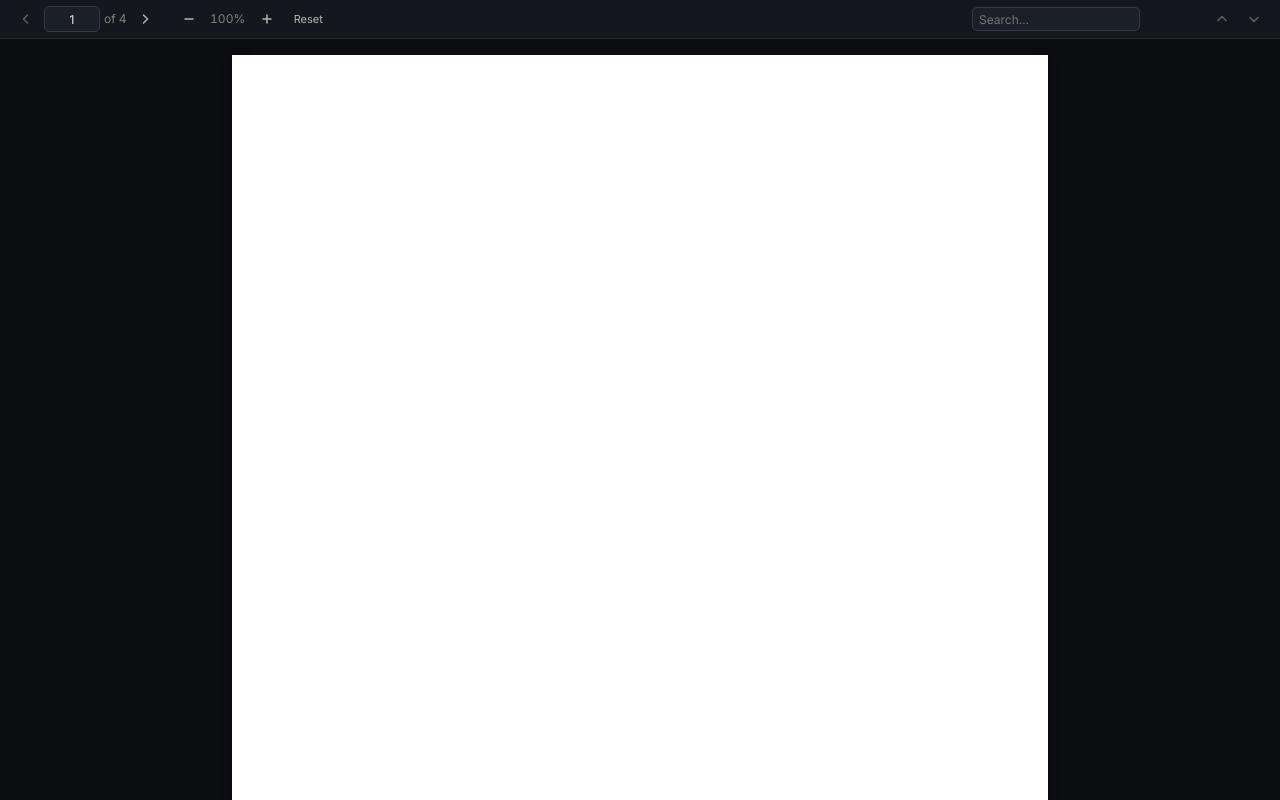
Test case: PDV-FR-SAIG: page navigation › PDV-FR-SAIG: text that is not a number leaves the page as it is, and leaving the field restores the page number
Click the button named "Next page". click: (145, 19)
box: [131, 7, 159, 31]
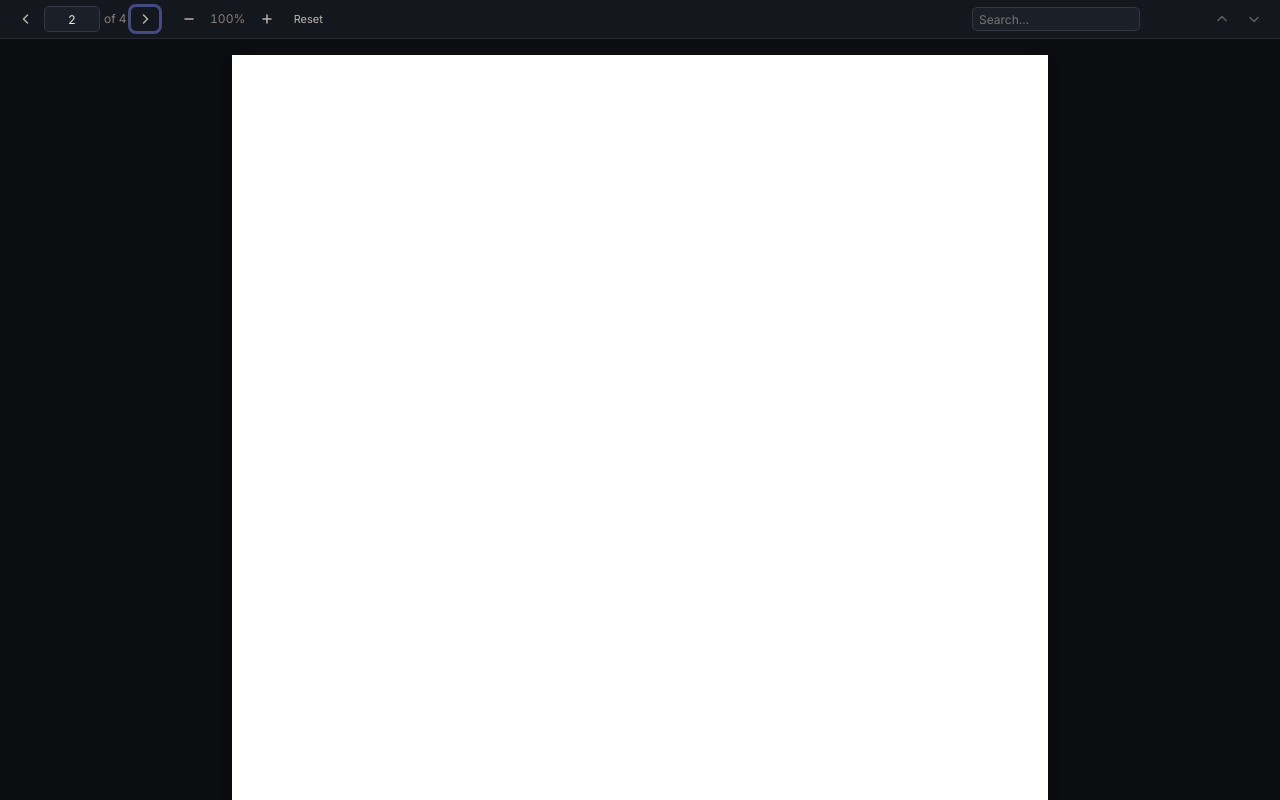
Replace the text in the field named "Page number" with "abc". click: (72, 19)
box: [44, 6, 100, 32]
Then press Enter
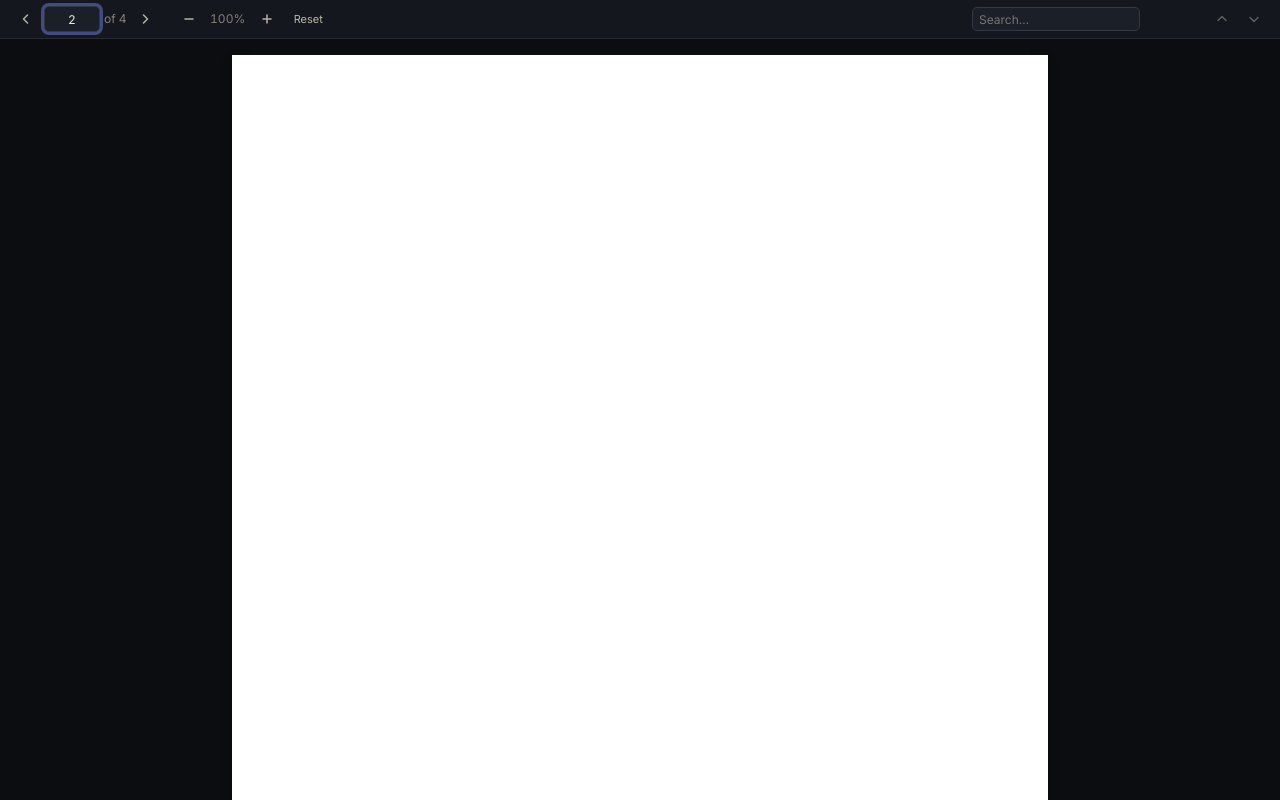
Check: the field named "Page number" holds "2"
Replace the text in the field named "Page number" with "4". click: (72, 19)
box: [44, 6, 100, 32]
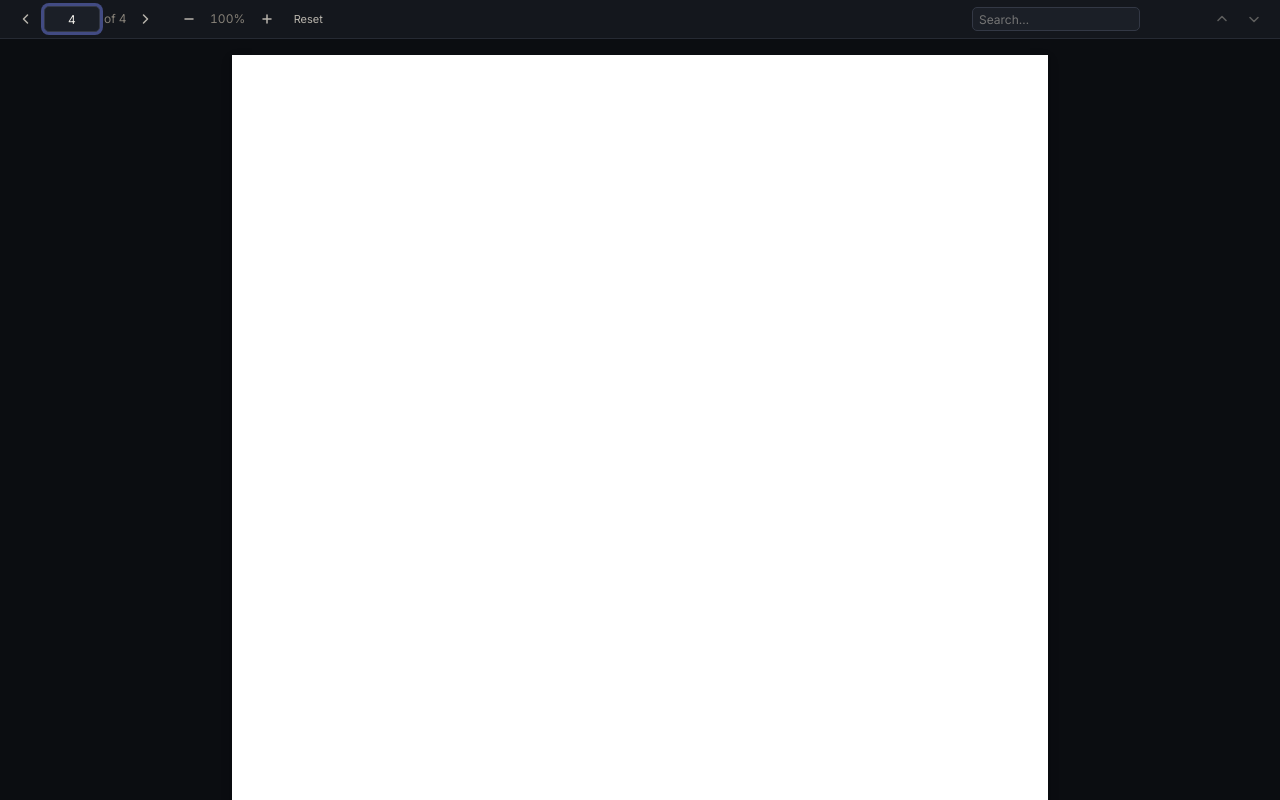
Press Tab
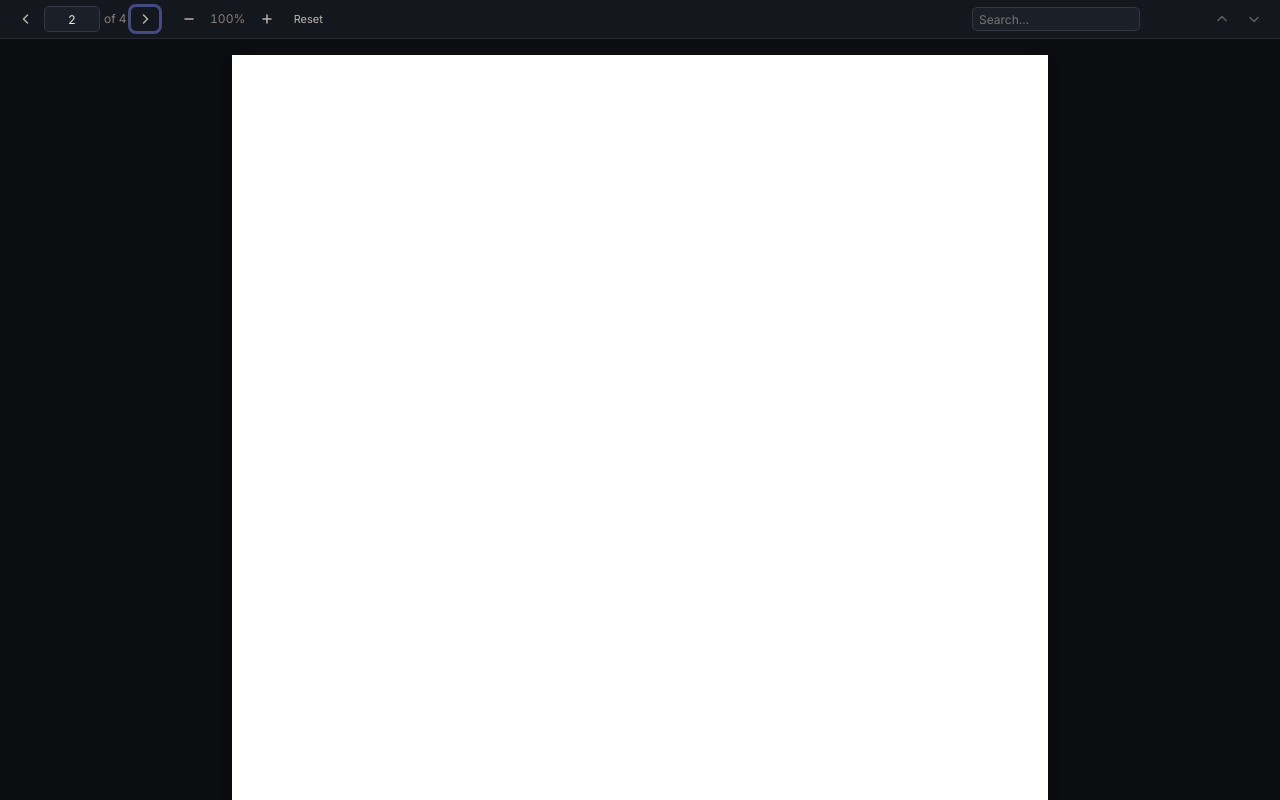
Check: the text "Two" is shown, box [232, 55, 258, 68]
Check: the field named "Page number" holds "2", box [44, 6, 100, 32]
